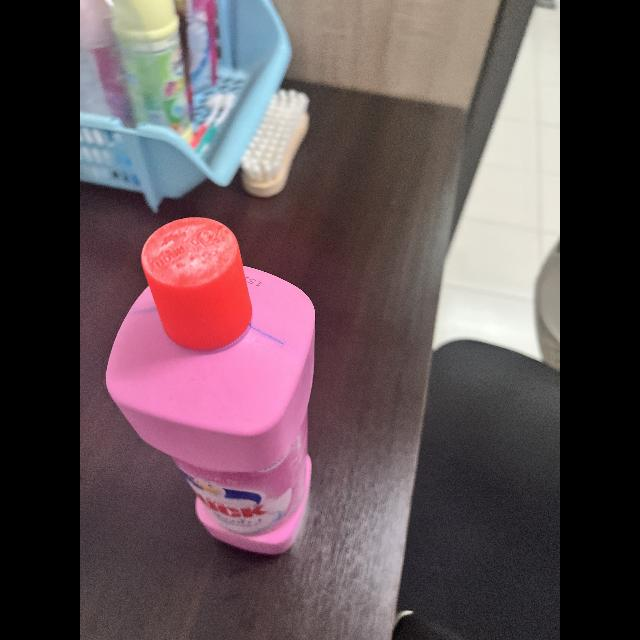chemical_plastic_bottle: (101, 220, 321, 562)
